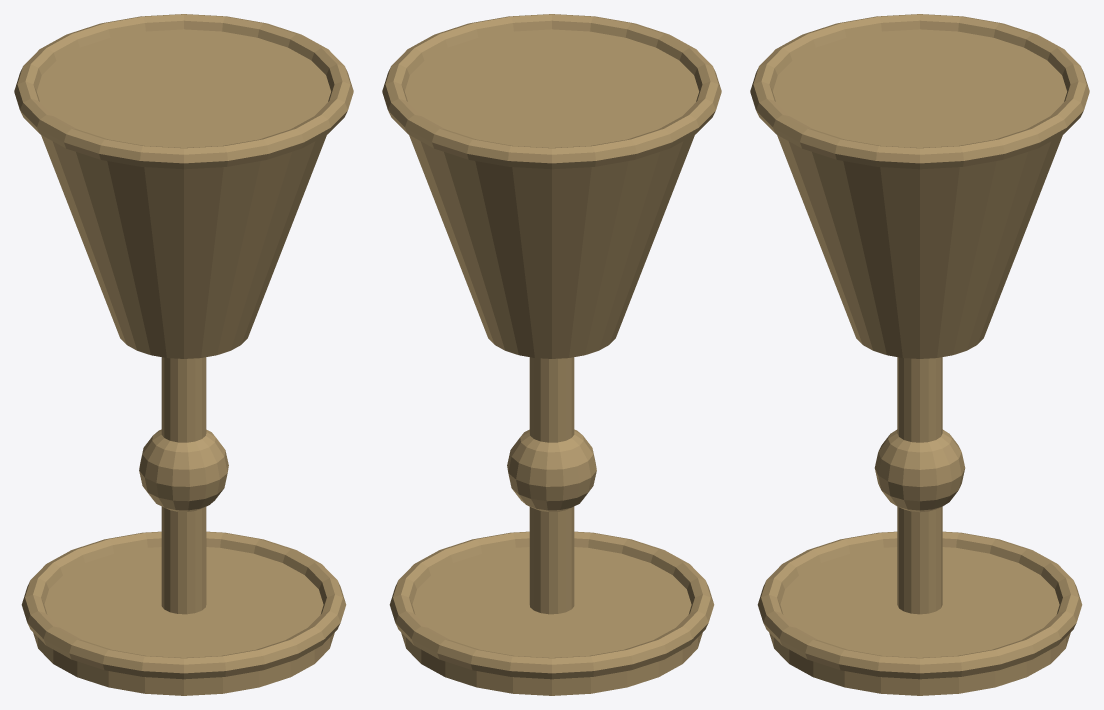
Rendered from goblet.glb.
The picture shows the model from 3 angles, left to right: view 1: azimuth 30°, elevation 25°; view 2: azimuth 150°, elevation 25°; view 3: azimuth 270°, elevation 25°; orthographic projection.
Visible parts, largest first — view 1: goblet; view 2: goblet; view 3: goblet.
Part boxes in pixels (x1,y1,x2,y2): goblet: [14, 14, 353, 695]; goblet: [382, 14, 721, 695]; goblet: [750, 14, 1089, 695].
Size of the model in its own units: 0.09 by 0.161 by 0.09.
